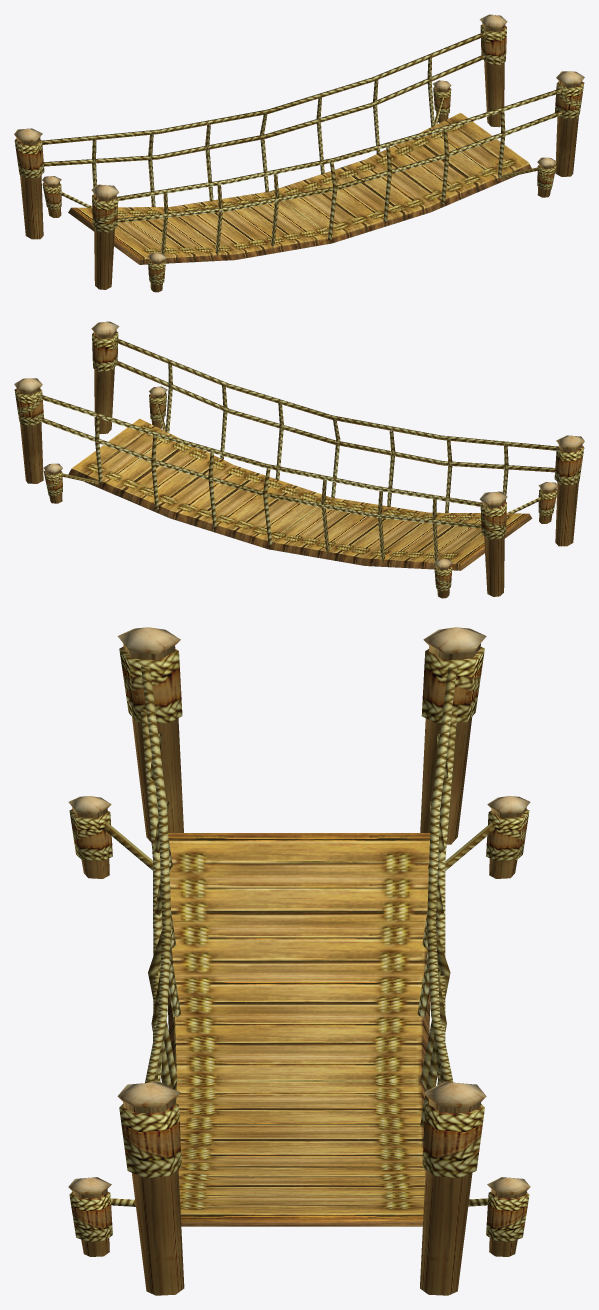
File: a_bridge01.glb
3 views of the same model, one above another, from view 1: azimuth 30°, elevation 25°; view 2: azimuth 150°, elevation 25°; view 3: azimuth 270°, elevation 25° (orthographic). The views are drawn at different scales.
Visible parts, largest first — view 1: a_bridge01; view 2: a_bridge01; view 3: a_bridge01.
Boxes of the visible parts, left/top/right/bottom form: a_bridge01: left=14, top=14, right=584, bottom=292; a_bridge01: left=14, top=321, right=584, bottom=598; a_bridge01: left=68, top=627, right=530, bottom=1295.
Bounding box in the file's own units: 6.03 × 1.41 × 2.48.
1 material, 1 textured.
